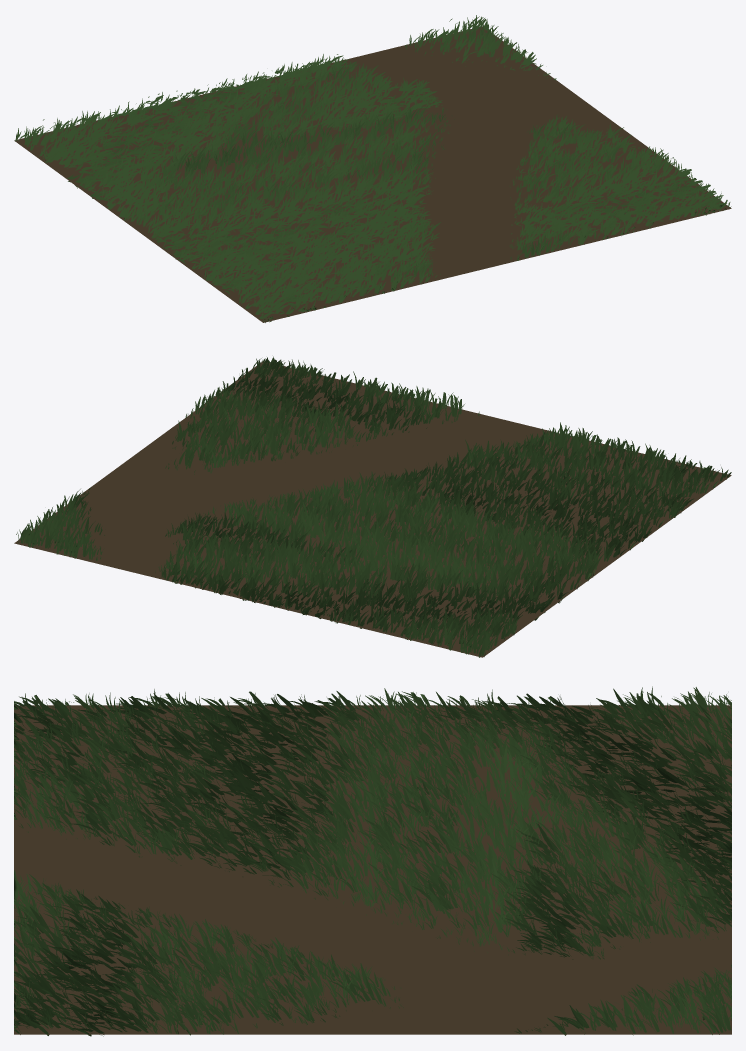
File: ground_p3.glb
The picture shows the model from 3 angles, top to bottom: view 1: azimuth 30°, elevation 25°; view 2: azimuth 150°, elevation 25°; view 3: azimuth 270°, elevation 25°; orthographic projection. The views are drawn at different scales.
Visible parts, largest first — view 1: Ground_P3; view 2: Ground_P3; view 3: Ground_P3.
Part boxes in pixels (<box>): Ground_P3: <box>14,15,731,322</box>; Ground_P3: <box>14,356,731,657</box>; Ground_P3: <box>14,686,731,1036</box>.
Bounding box in the file's own units: 19 × 0.8224 × 17.5.
